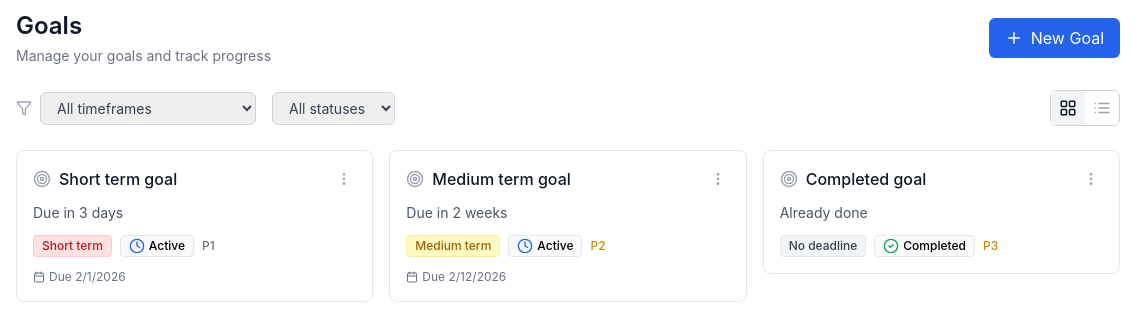
Goals › filters goals by time horizon
Expected: the heading "Short term goal" is shown, left=59, top=167, right=177, bottom=191
# Select "Short term" filter
Step 1. Select "Short term (<1 week)" in the 1st dropdown showing "All timeframes" → {"x": 148, "y": 108}, box left=40, top=92, right=256, bottom=124
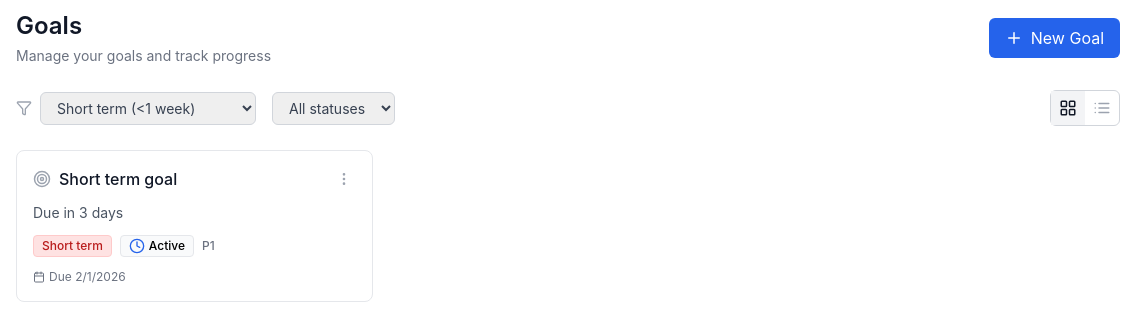
Expected: the heading "Short term goal" is shown, left=59, top=167, right=177, bottom=191
Expected: the heading "Medium term goal" is gone
